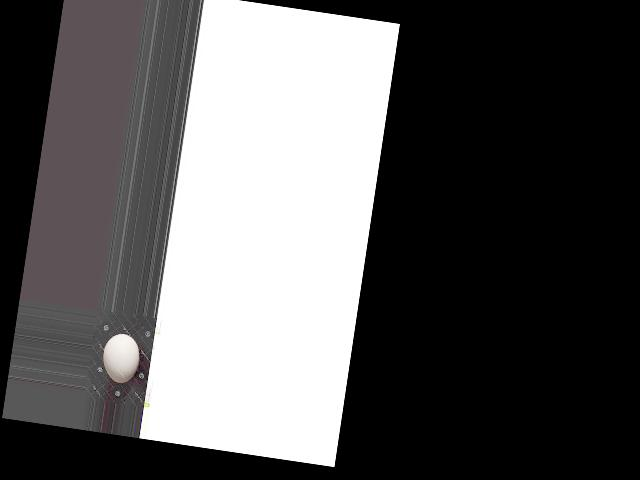egg: (100, 331, 142, 385)
